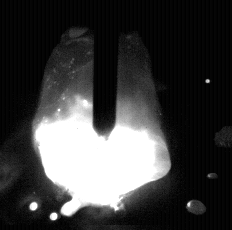arame: (93, 0, 119, 136)
poca: (31, 0, 167, 230)
